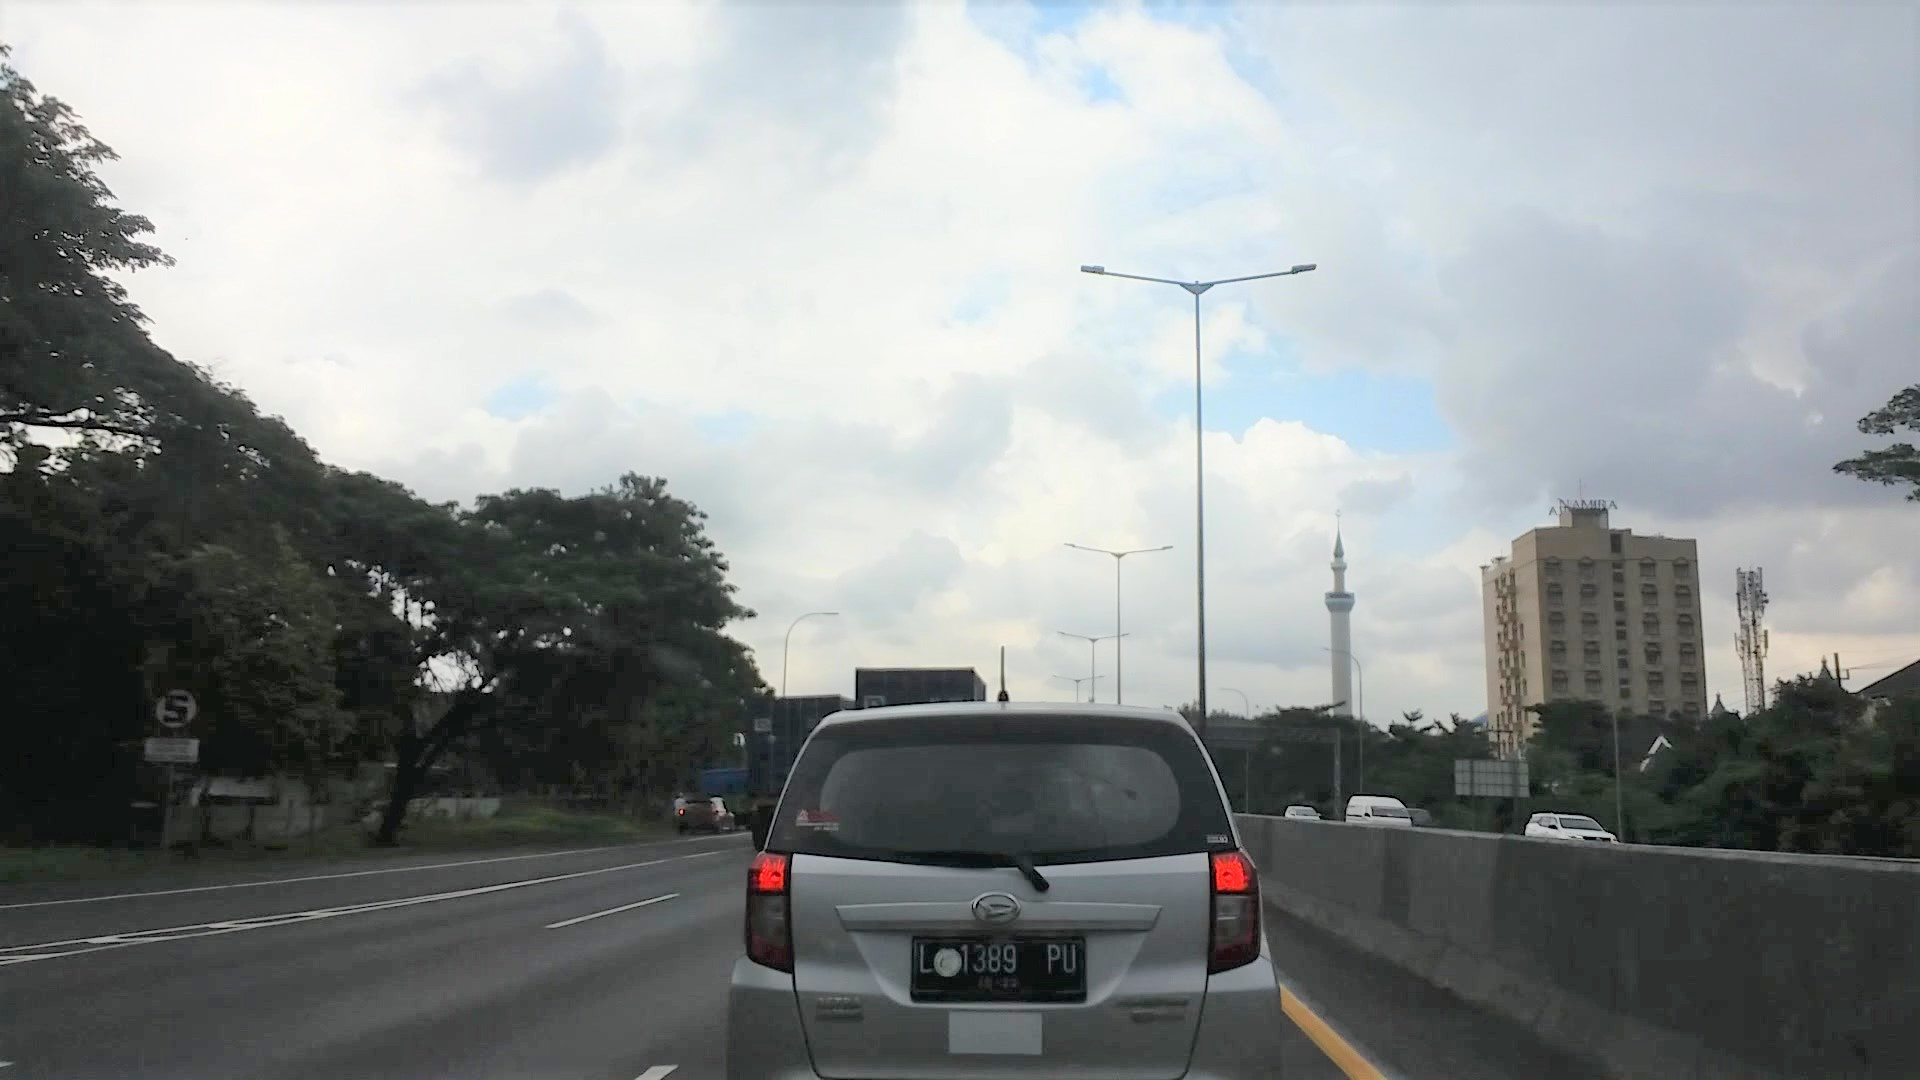plate_positive: (911, 935, 1088, 1004)
